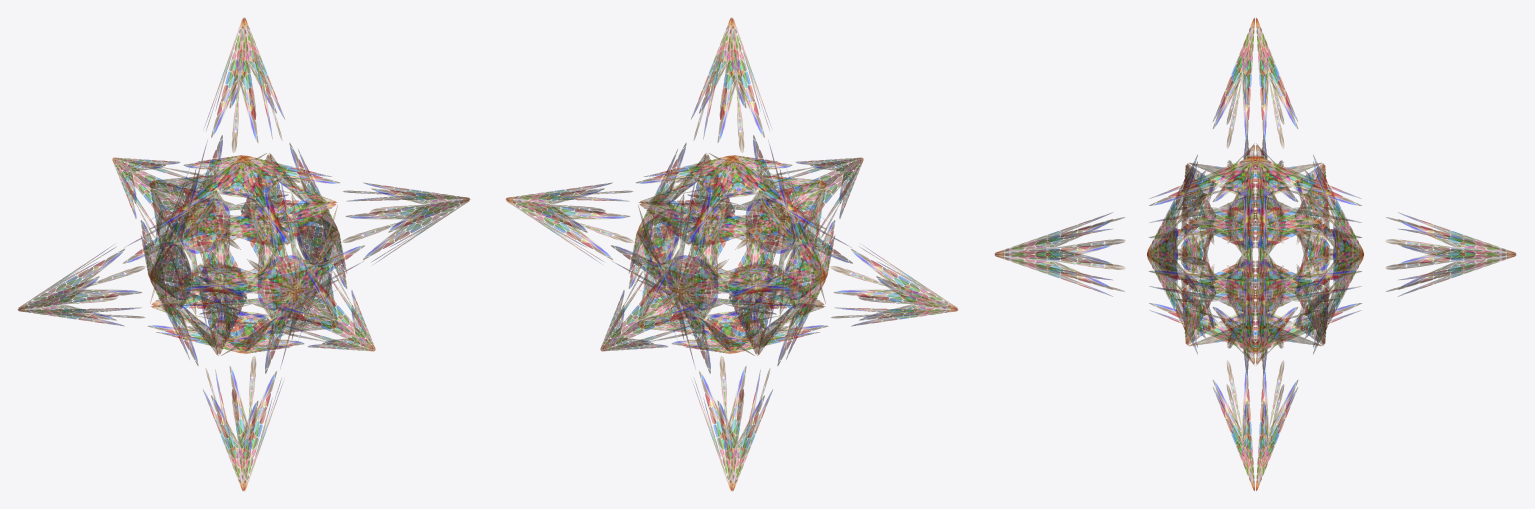
The model's file is 4GreatHexacronicIcositetrahedron.gltf.
3 renders of one model, left to right at view 1: azimuth 30°, elevation 25°; view 2: azimuth 150°, elevation 25°; view 3: azimuth 270°, elevation 25°, orthographic.
Parts seen in each view (by area): view 1: GreatHexacronicIcositetrahedron9; view 2: GreatHexacronicIcositetrahedron9; view 3: GreatHexacronicIcositetrahedron9.
Part boxes in pixels (left/top/right/bottom): GreatHexacronicIcositetrahedron9: left=17, top=18, right=469, bottom=490; GreatHexacronicIcositetrahedron9: left=505, top=18, right=957, bottom=490; GreatHexacronicIcositetrahedron9: left=995, top=18, right=1515, bottom=490.
Size of the model in its own units: 2.83 by 2.83 by 2.83.
1 material, 1 textured.
